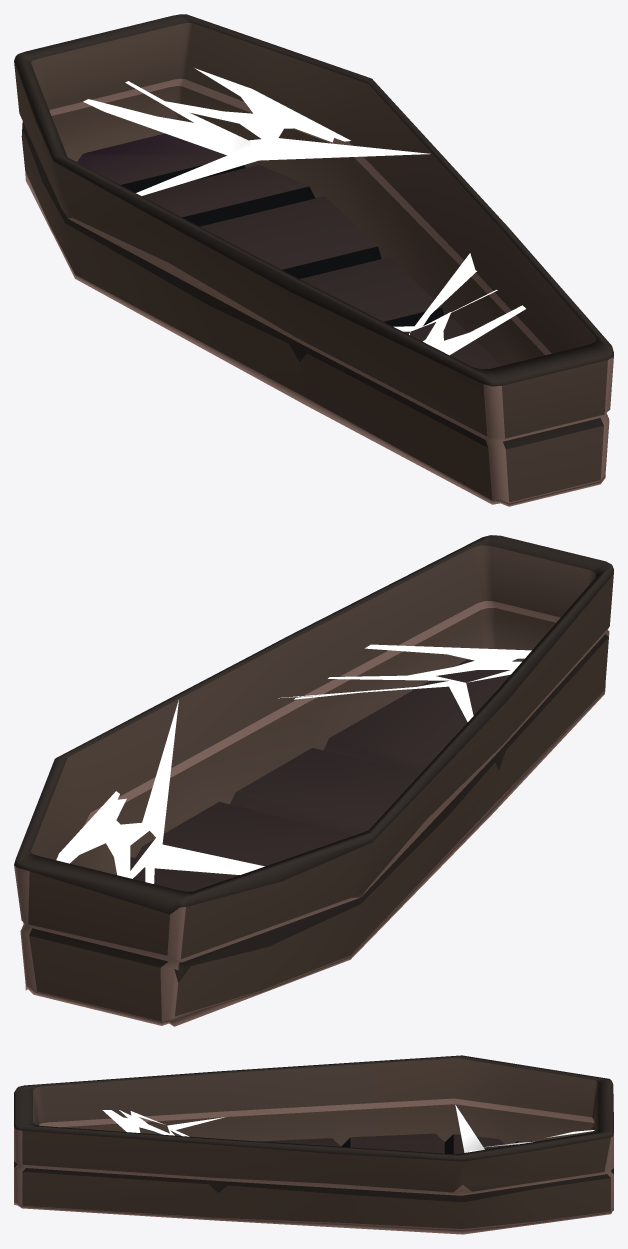
3 renders of one model, top to bottom at view 1: azimuth 30°, elevation 25°; view 2: azimuth 150°, elevation 25°; view 3: azimuth 270°, elevation 25°, orthographic. The views are drawn at different scales.
Parts seen in each view (by area): view 1: Coffin; view 2: Coffin; view 3: Coffin.
Boxes of the visible parts, box(x1,y1,x2,y2) form: Coffin: box(14, 14, 613, 506); Coffin: box(14, 535, 613, 1026); Coffin: box(14, 1055, 613, 1234).
Size of what is drawn, in the model's own units: 1.19 by 0.466 by 2.95.
Materials: 1 (1 with a texture image).
